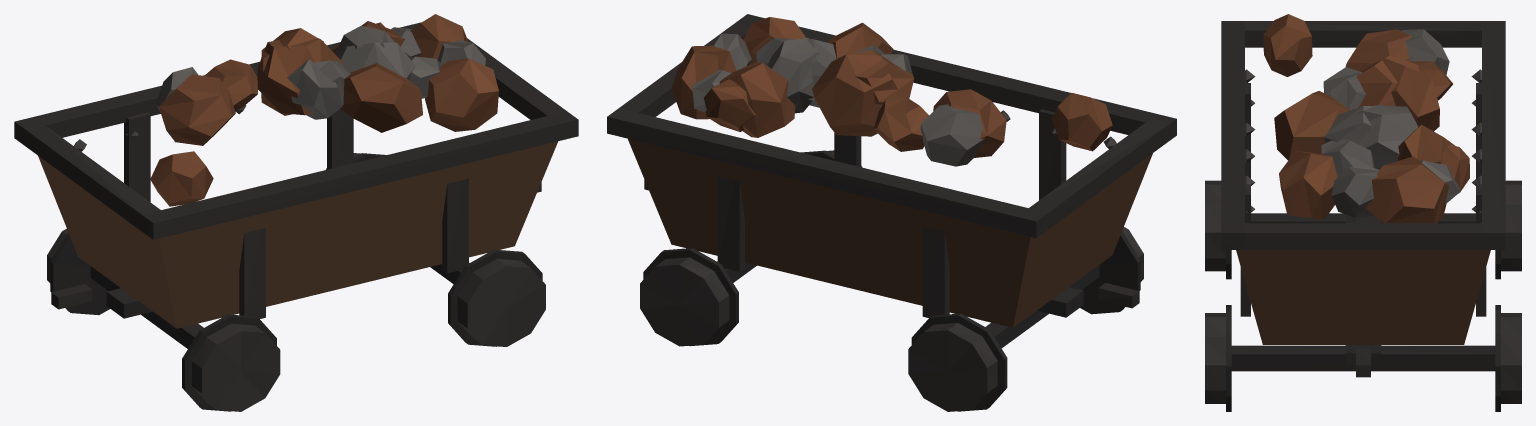
The model's file is mine-cart.glb.
The picture shows the model from 3 angles, left to right: view 1: azimuth 30°, elevation 25°; view 2: azimuth 150°, elevation 25°; view 3: azimuth 270°, elevation 25°; orthographic projection. The views are drawn at different scales.
Visible parts, largest first — view 1: mine-cart; view 2: mine-cart; view 3: mine-cart.
Part boxes in pixels (x1=…): mine-cart: x1=14, y1=14, x2=578, y2=411; mine-cart: x1=607, y1=14, x2=1176, y2=411; mine-cart: x1=1205, y1=14, x2=1521, y2=411.
Size of the model in its own units: 1.8 by 1 by 1.
